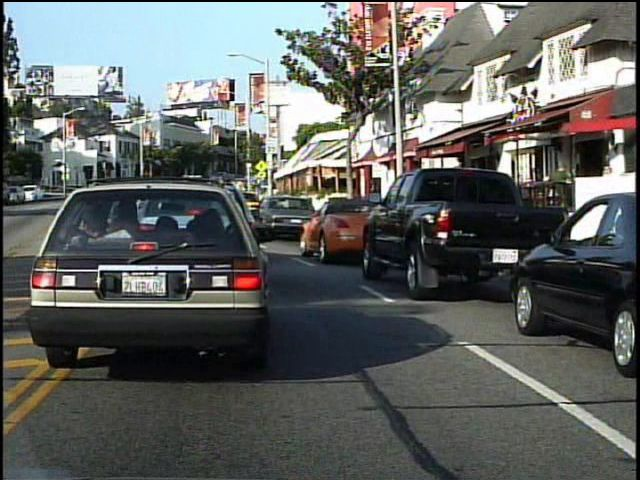person: (547, 157, 575, 227)
